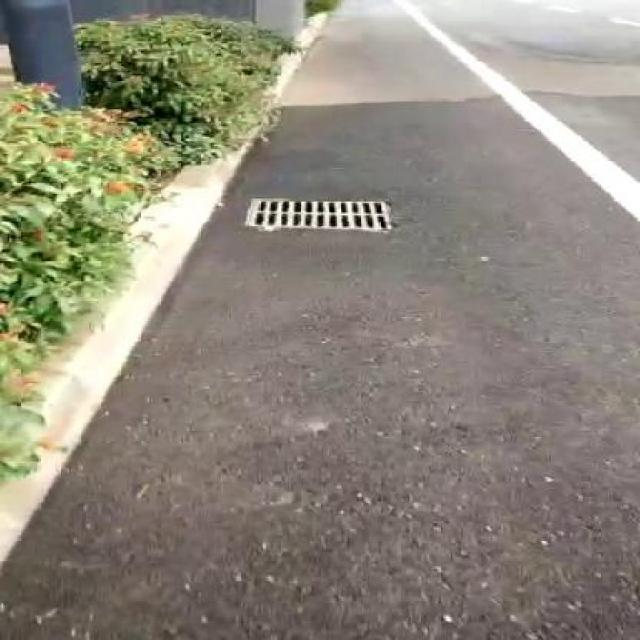Manhole: (240, 192, 392, 240)
